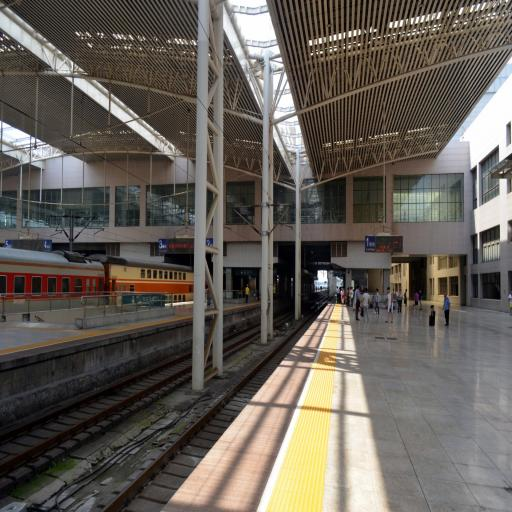platform_edge: (169, 302, 354, 508)
